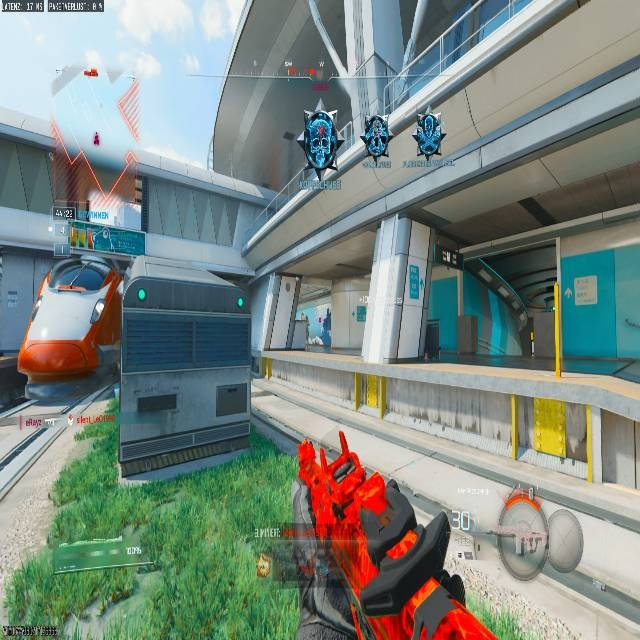player: (411, 112, 446, 159), (361, 115, 390, 165)
